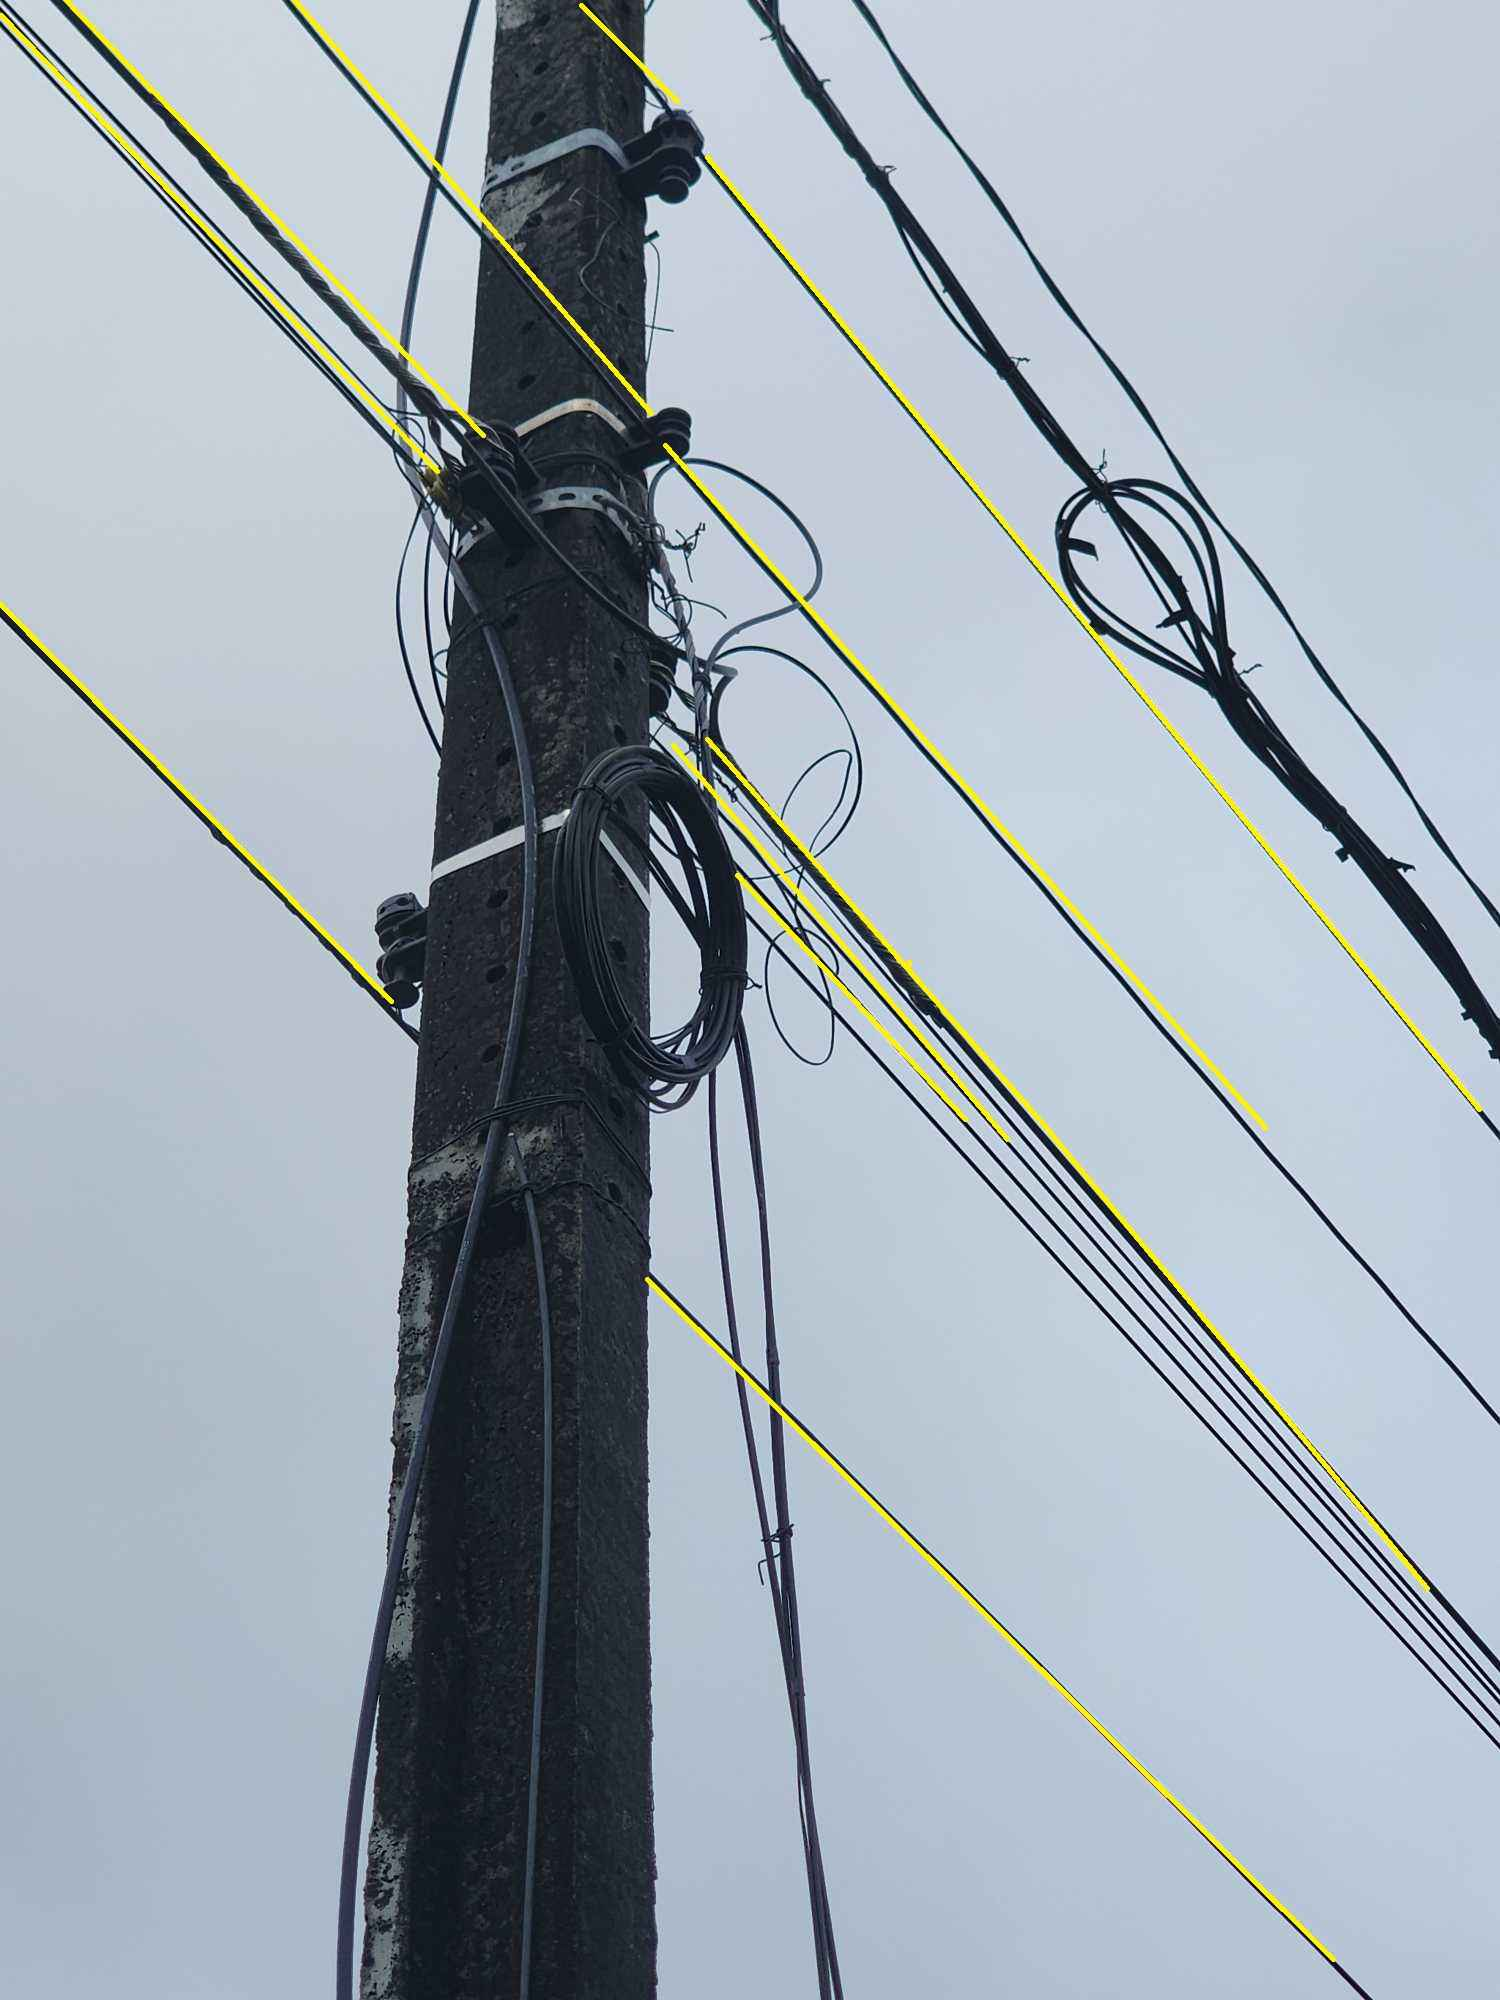poste: (359, 17, 707, 1994)
tronco_metalico: (570, 728, 756, 1101)
